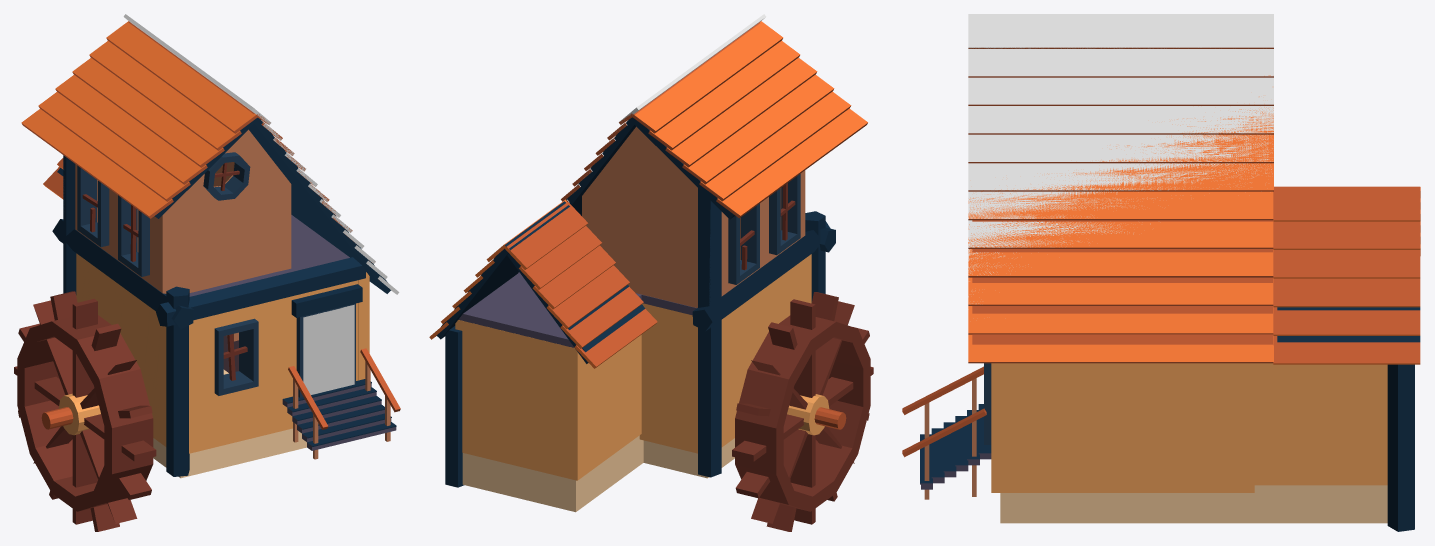
The model's file is House2.fbx.
The picture shows the model from 3 angles, left to right: view 1: azimuth 30°, elevation 25°; view 2: azimuth 150°, elevation 25°; view 3: azimuth 270°, elevation 25°; orthographic projection. The views are drawn at different scales.
Visible parts, largest first — view 1: Cube.026, Cylinder, Cube.025, Cylinder.009, Cube.002, Cube.011, Cube, Stairs, Cube.028, Cube.007, Cube.013, Cube.024 (+12 smaller); view 2: Cube.026, Cube.019, Cylinder, Cube.025, Cube.034, Cylinder.009, Cube.001, Cube.013, Cube.011, Cube, Cube.017, Cube.023 (+11 smaller); view 3: Cube.028, Cube.030, Cube, Cube.032, Cube.018, Cube.013, Cylinder.010, Stairs, Cube.031, Cube.005, Cube.004, Cube.003.
Part boxes in pixels (bbox=[...]): Cube.026: bbox=[21, 21, 258, 218]; Cylinder: bbox=[17, 291, 153, 531]; Cube.025: bbox=[75, 129, 291, 293]; Cylinder.009: bbox=[52, 155, 365, 476]; Cube.002: bbox=[189, 280, 358, 453]; Cube.011: bbox=[14, 298, 156, 524]; Cube: bbox=[76, 253, 369, 453]; Stairs: bbox=[282, 379, 396, 450]; Cube.028: bbox=[128, 21, 390, 293]; Cube.007: bbox=[303, 304, 354, 394]; Cube.013: bbox=[153, 369, 306, 478]; Cube.024: bbox=[214, 318, 258, 395]; Cube.026: bbox=[632, 21, 867, 218]; Cube.019: bbox=[455, 320, 583, 480]; Cylinder: bbox=[735, 292, 870, 531]; Cube.025: bbox=[582, 126, 805, 307]; Cube.034: bbox=[505, 202, 657, 368]; Cylinder.009: bbox=[692, 188, 835, 477]; Cube.001: bbox=[639, 303, 697, 453]; Cube.013: bbox=[462, 435, 734, 512]; Cube.011: bbox=[732, 299, 873, 524]; Cube: bbox=[721, 254, 811, 447]; Cube.017: bbox=[583, 334, 641, 475]; Cube.023: bbox=[458, 272, 696, 347]; Cube.028: bbox=[968, 47, 1273, 363]; Cube.030: bbox=[968, 14, 1273, 303]; Cube: bbox=[991, 363, 1254, 492]; Cube.032: bbox=[1273, 186, 1420, 364]; Cube.018: bbox=[1254, 363, 1387, 485]; Cube.013: bbox=[1000, 485, 1387, 523]; Cylinder.010: bbox=[1387, 364, 1414, 531]; Stairs: bbox=[920, 404, 991, 489]; Cube.031: bbox=[1277, 307, 1420, 342]; Cube.005: bbox=[902, 366, 986, 457]; Cube.004: bbox=[924, 378, 976, 499]; Cube.003: bbox=[984, 363, 991, 444].
Bounding box in the file's own units: 2655 × 3819 × 3454.
